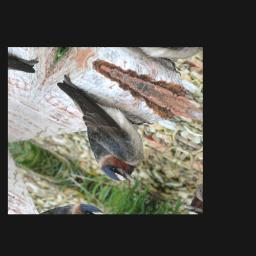Swallow: (24, 71, 169, 190)
